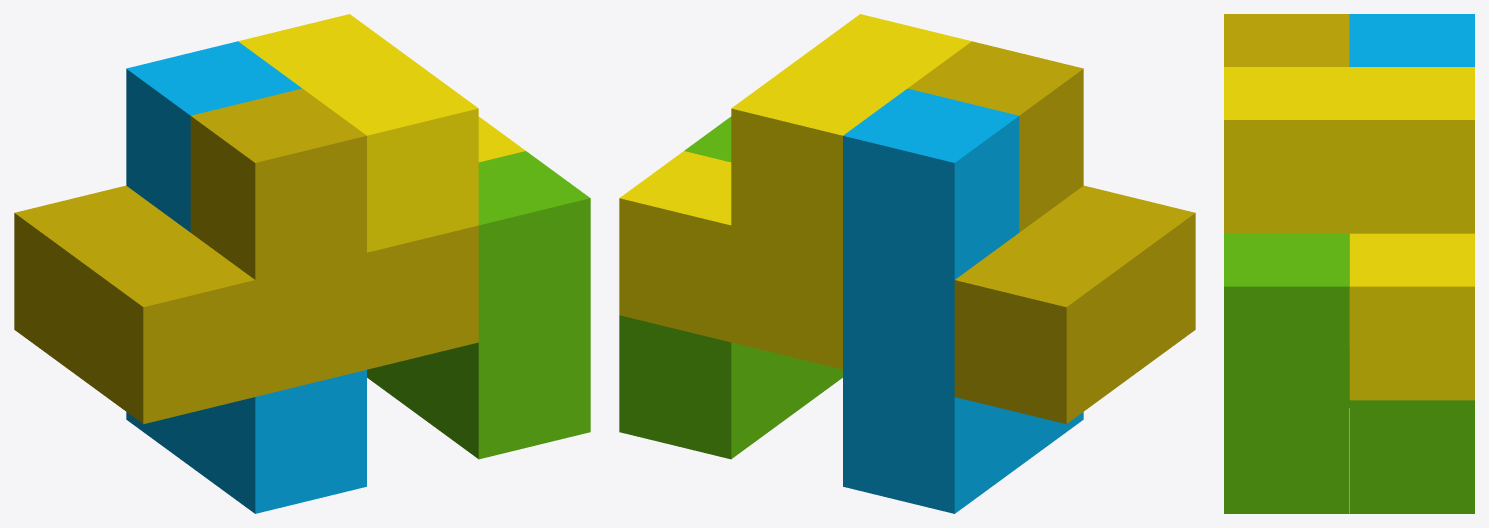
The picture shows the model from 3 angles, left to right: view 1: azimuth 30°, elevation 25°; view 2: azimuth 150°, elevation 25°; view 3: azimuth 270°, elevation 25°; orthographic projection. The views are drawn at different scales.
Visible parts, largest first — view 1: mergedBlocks(Clone); view 2: mergedBlocks(Clone); view 3: mergedBlocks(Clone).
Part boxes in pixels (x1,y1,x2,y2): mergedBlocks(Clone): (14,14,590,513); mergedBlocks(Clone): (619,14,1195,513); mergedBlocks(Clone): (1224,14,1474,513).
Bounding box in the file's own units: 4 × 3 × 2.
4 materials, 4 textured.
